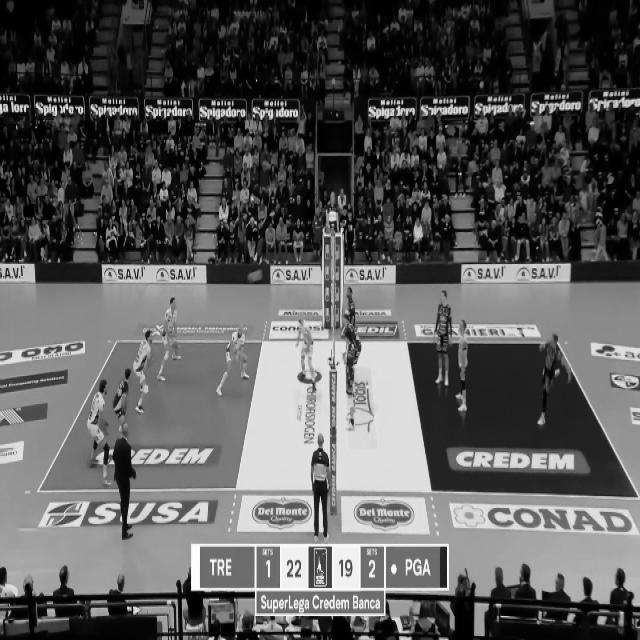volleyball court: (38, 338, 637, 498)
